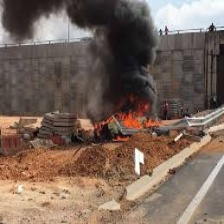fire: (109, 113, 144, 127)
smoke: (91, 3, 155, 99)
